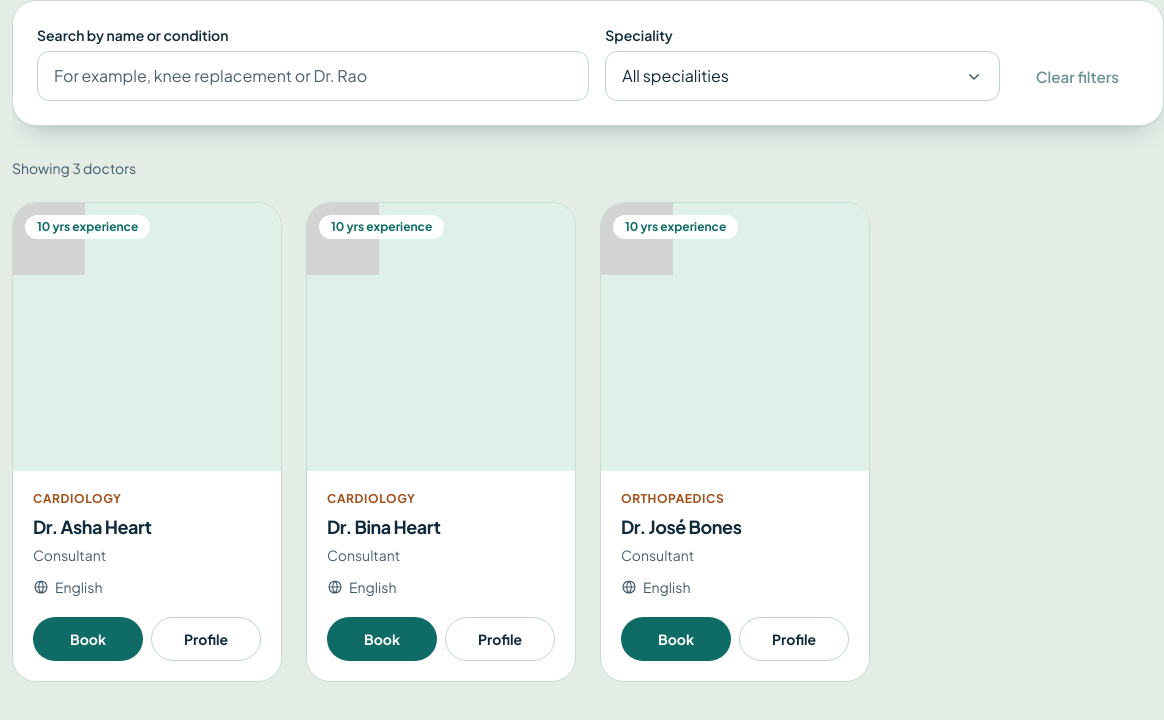
Test case: DoctorDirectory › filters by speciality and announces the result count
Step 1. Select "Cardiology" in the dropdown labelled "Speciality" → point(803, 76), box [605,51,1000,101]
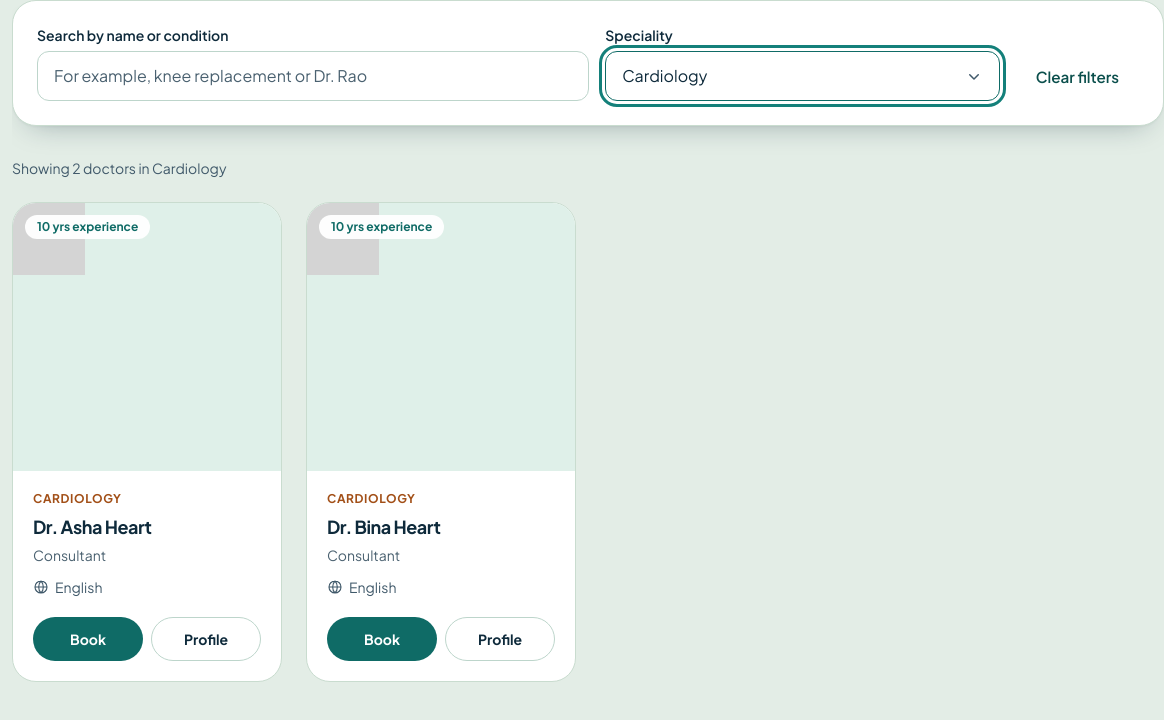
Now the message reads "Showing 2 doctors in Cardiology", box [12,159,226,177]
Now the link "José Bones" is gone
